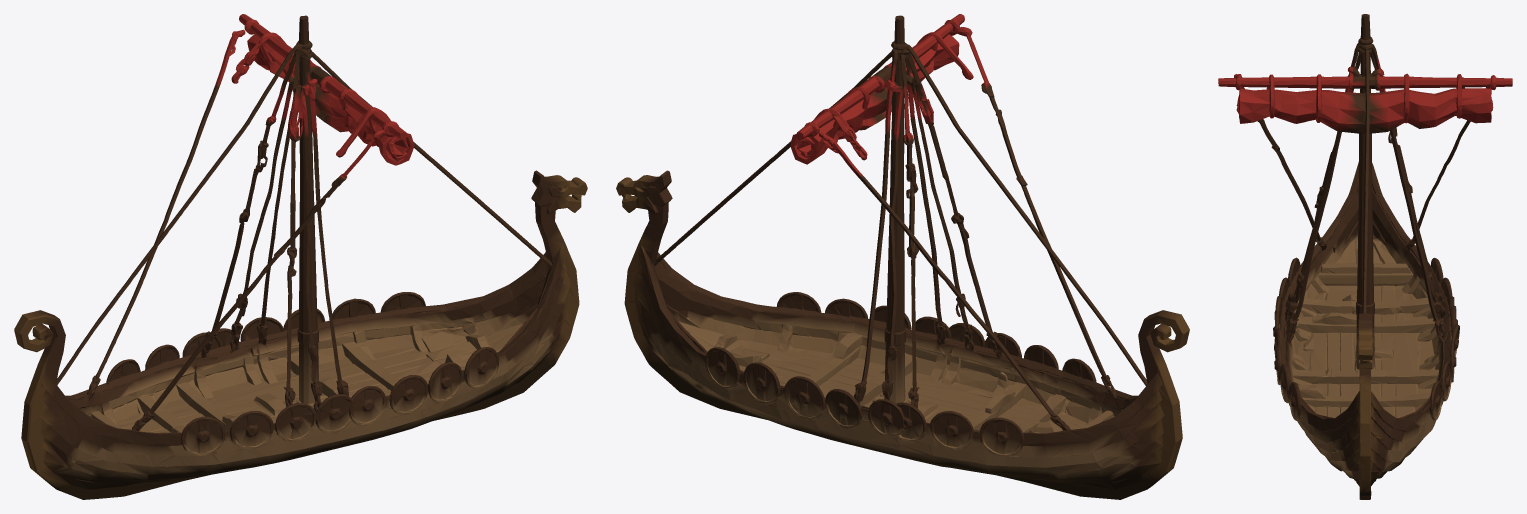
File: drakkar.glb
3 views of the same model, side by side, from view 1: azimuth 30°, elevation 25°; view 2: azimuth 150°, elevation 25°; view 3: azimuth 270°, elevation 25° (orthographic). The views are drawn at different scales.
Visible parts, largest first — view 1: mesh_node; view 2: mesh_node; view 3: mesh_node.
Part boxes in pixels (x1=…): mesh_node: x1=14, y1=14, x2=587, y2=499; mesh_node: x1=616, y1=14, x2=1189, y2=499; mesh_node: x1=1218, y1=14, x2=1512, y2=499.
Bounding box in the file's own units: 1.9 × 1.38 × 0.9338.
